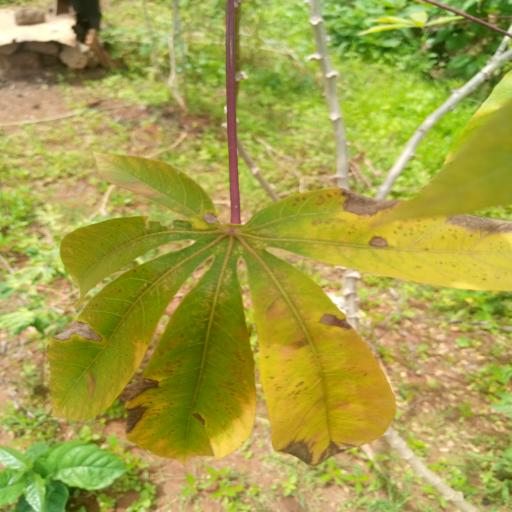Cassava_Mosaic: (33, 151, 512, 470)
